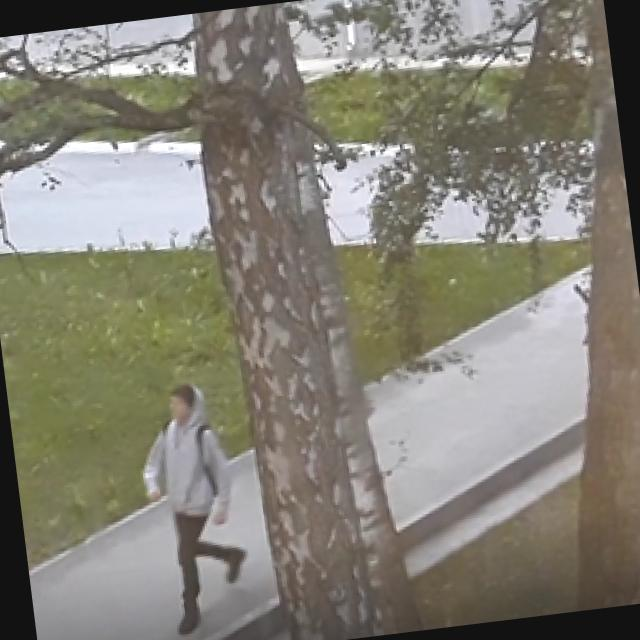person: (121, 372, 256, 635)
